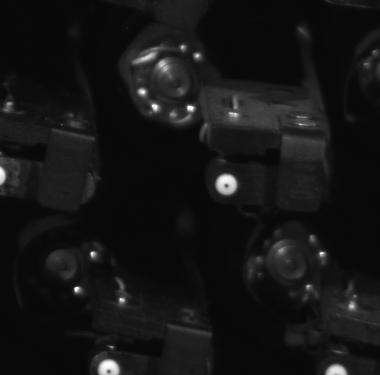fiber: (211, 172, 243, 197), (94, 355, 123, 375), (321, 359, 353, 375)
